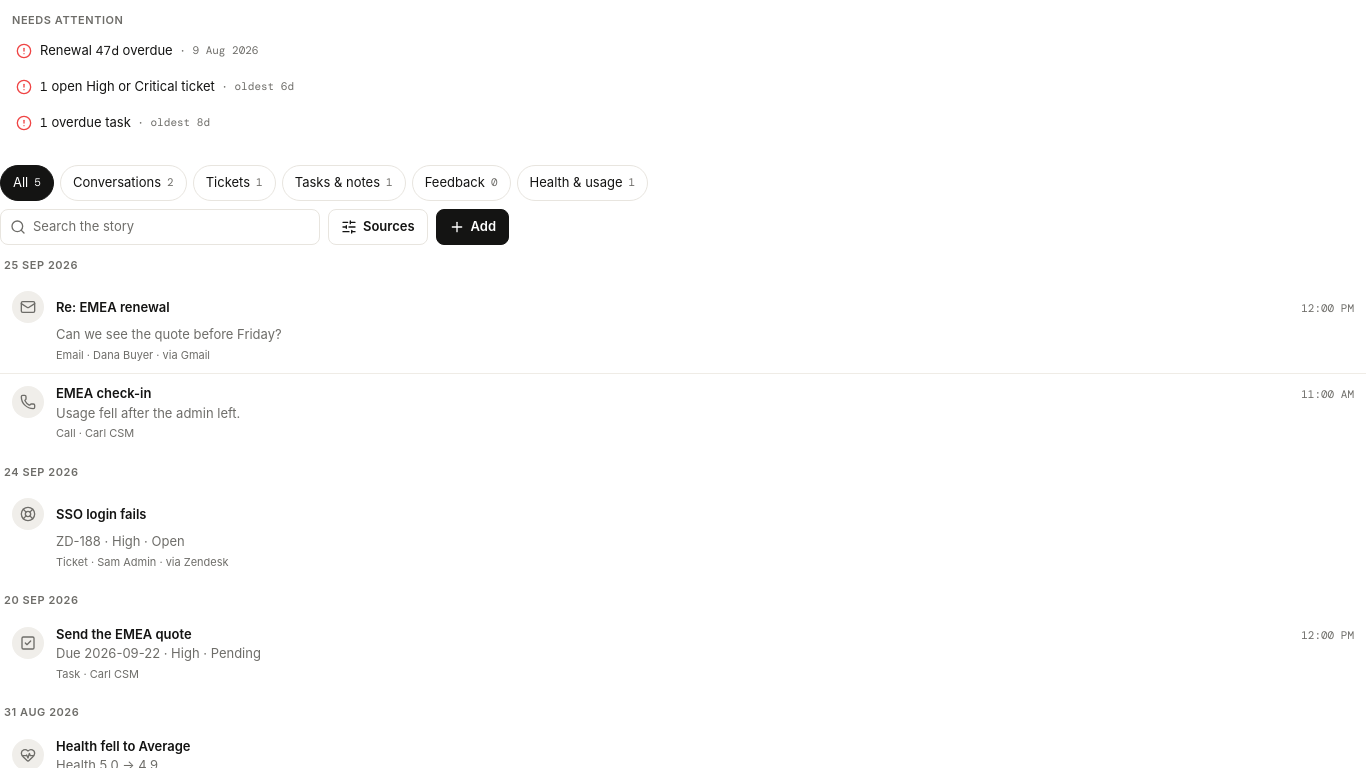
Test: the Story parts on one account › opens an email's thread from the account story
The width and height of the screenshot is (1366, 768).
What coordinates should you click on to do the following:
click the button "Re: EMEA renewal"
I would click on:
 (113, 307)
Its box is [56,289,170,325].
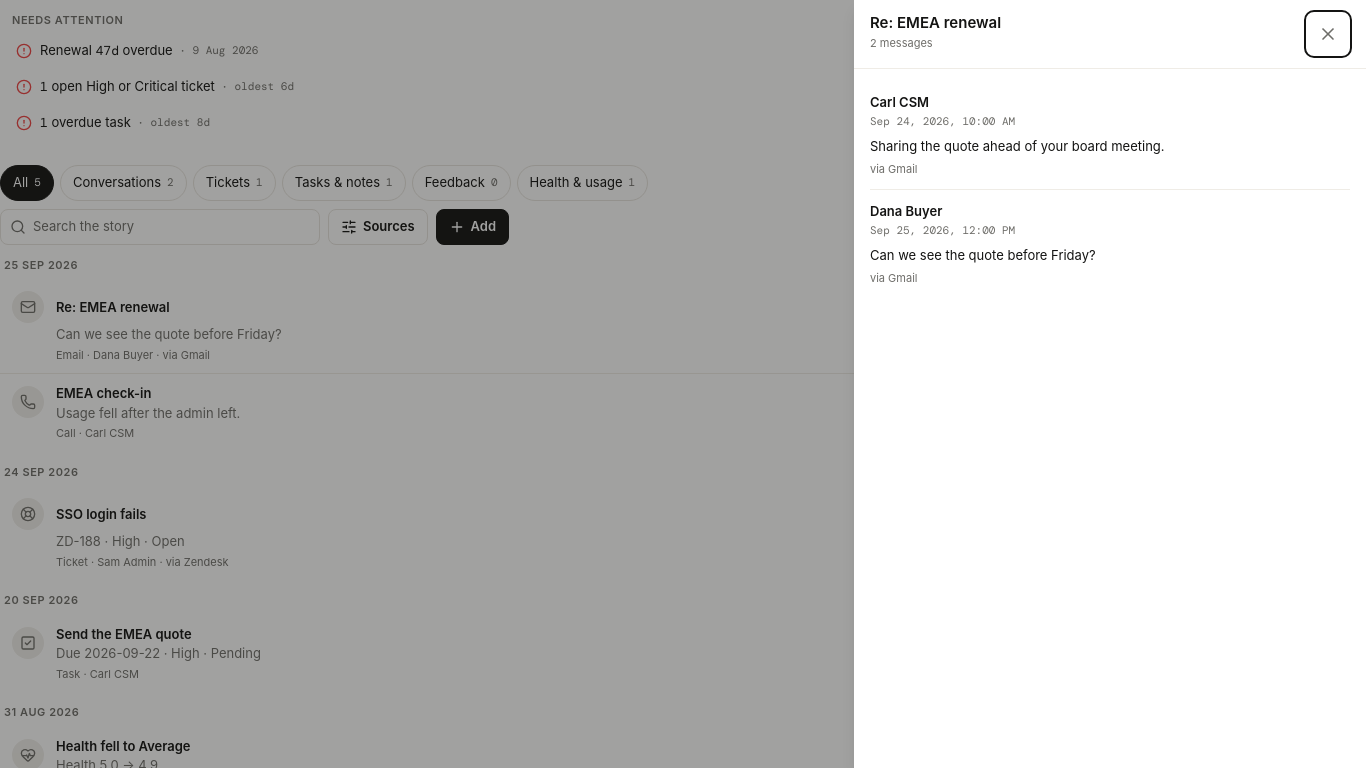
Expected: the dialog "Re: EMEA renewal" does not show "Pizza EMEA", [854,0,1365,767]
Expected: the text "Sharing the quote ahead of your board meeting." is shown, [870,138,1165,154]
